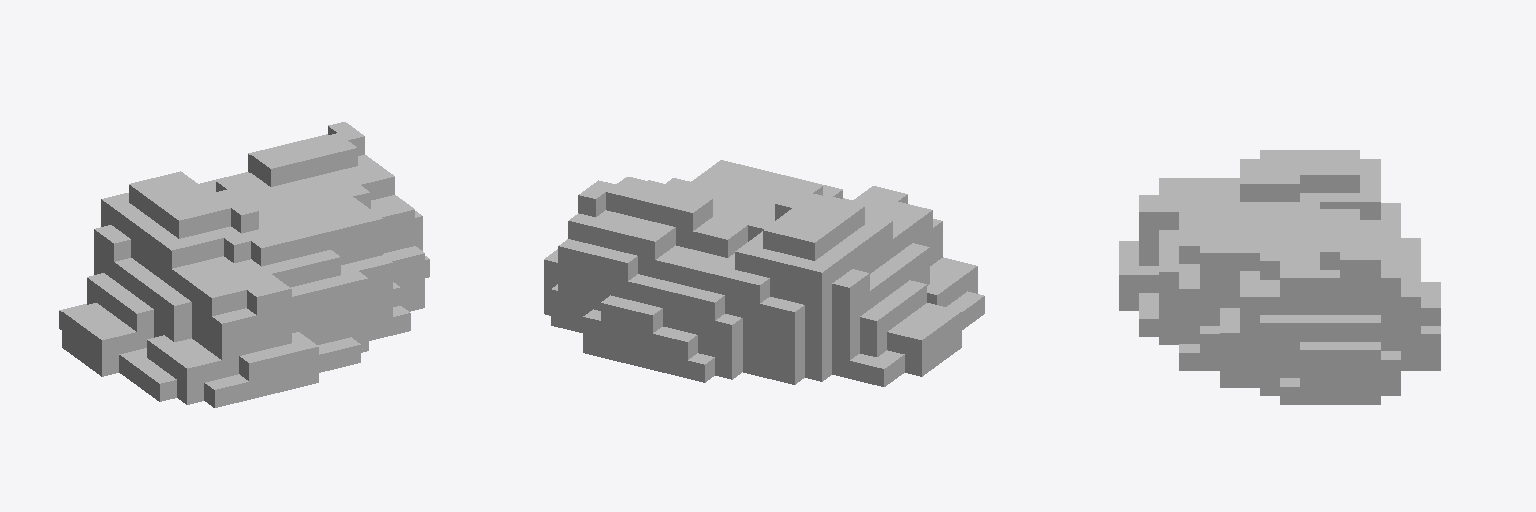
The model's file is Rock_1.obj.
The picture shows the model from 3 angles: view 1: azimuth 30°, elevation 25°; view 2: azimuth 150°, elevation 25°; view 3: azimuth 270°, elevation 25°; orthographic projection.
Visible parts, largest first — view 1: object 1; view 2: object 1; view 3: object 1.
Part boxes in pixels (left/top/right/bottom): object 1: left=59, top=122, right=429, bottom=407; object 1: left=544, top=160, right=984, bottom=386; object 1: left=1119, top=150, right=1440, bottom=404.
Bounding box in the file's own units: 2 × 0.7 × 1.6.